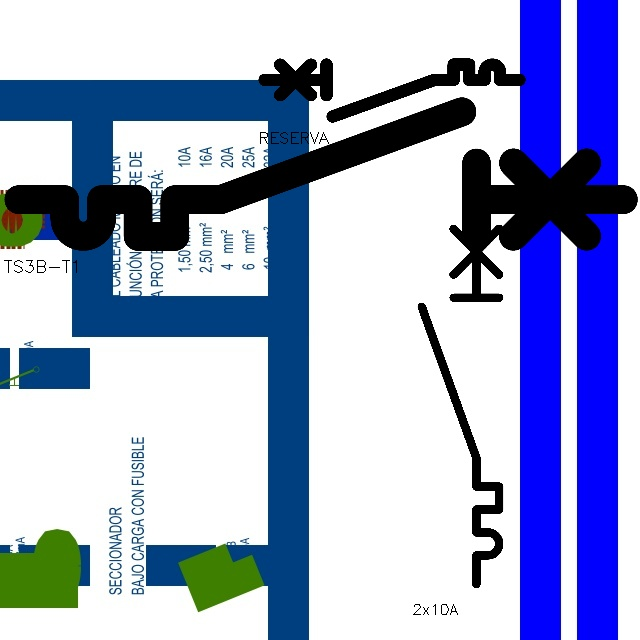interruptor_termomagnetico: (3, 96, 638, 252), (412, 196, 509, 594), (258, 58, 526, 123)
